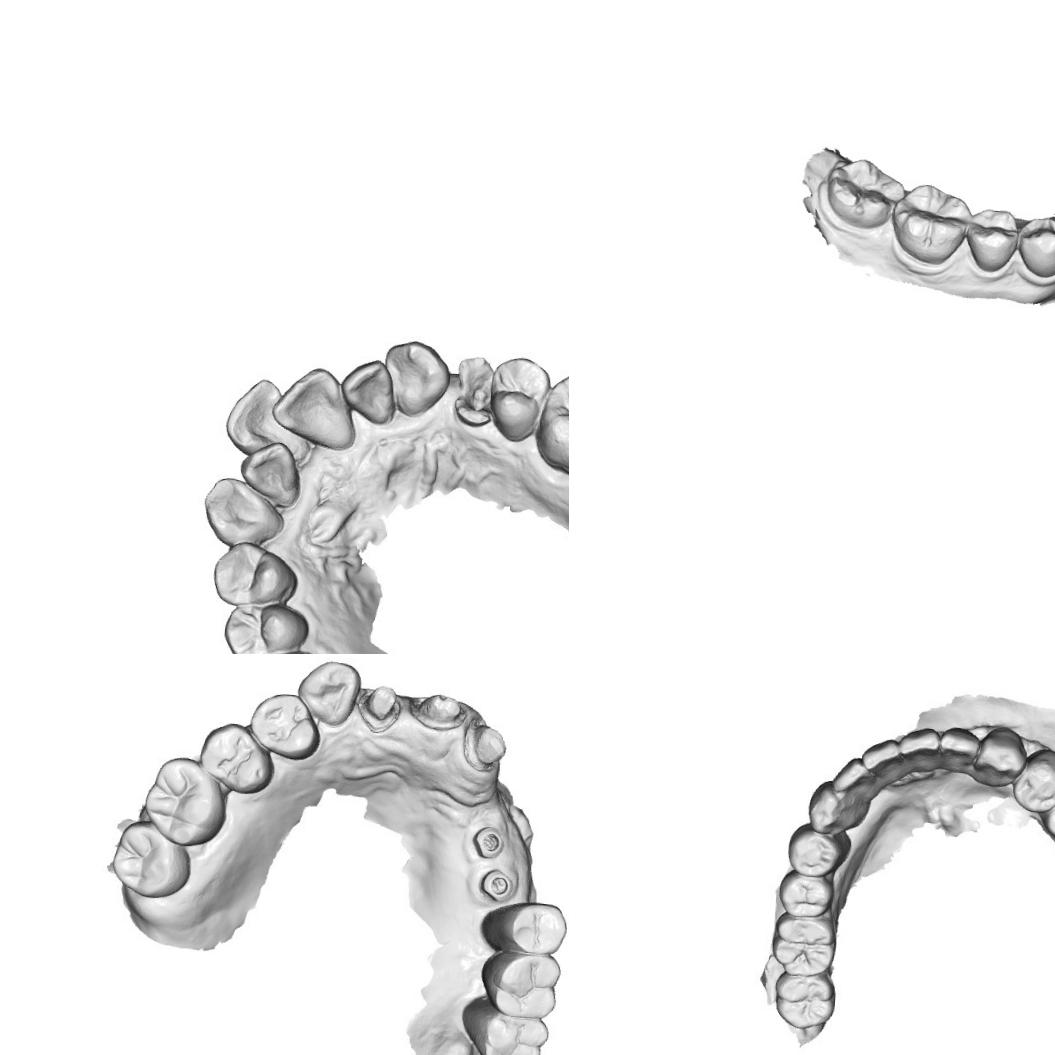canine: (199, 471, 283, 547), (381, 340, 452, 420), (294, 658, 362, 730), (804, 780, 868, 838), (973, 725, 1026, 792)
crown: (460, 720, 510, 774), (416, 690, 470, 734), (361, 683, 404, 732)
implant: (477, 865, 516, 904), (470, 826, 504, 862)
incisor: (276, 370, 357, 444), (226, 378, 289, 448), (244, 439, 302, 508), (346, 362, 398, 427), (936, 723, 982, 780), (828, 755, 880, 797), (862, 735, 904, 780), (900, 726, 938, 771)
molar: (139, 752, 229, 848), (888, 179, 972, 268), (109, 817, 195, 901), (822, 154, 908, 233), (477, 948, 561, 1023), (222, 596, 308, 654), (769, 913, 840, 977), (770, 972, 839, 1033), (468, 1006, 551, 1055), (535, 371, 569, 476)
premolar: (478, 352, 550, 445), (196, 718, 276, 796), (247, 688, 323, 762), (214, 543, 294, 608), (492, 898, 569, 955), (962, 206, 1020, 275), (785, 822, 851, 878), (776, 869, 840, 920), (1013, 213, 1055, 280), (1010, 754, 1055, 813), (1041, 779, 1055, 848)
